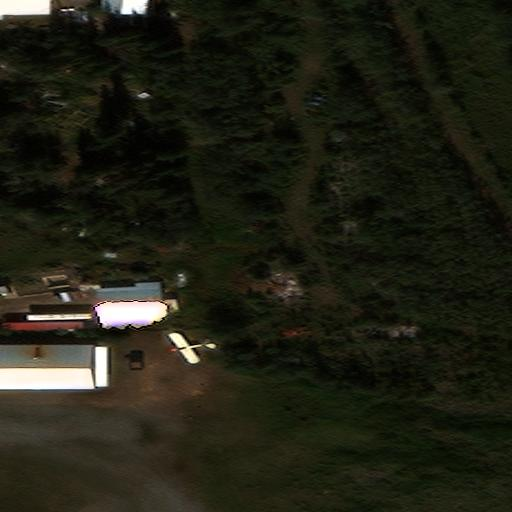Small Civil Transport: (168, 333, 212, 364)
